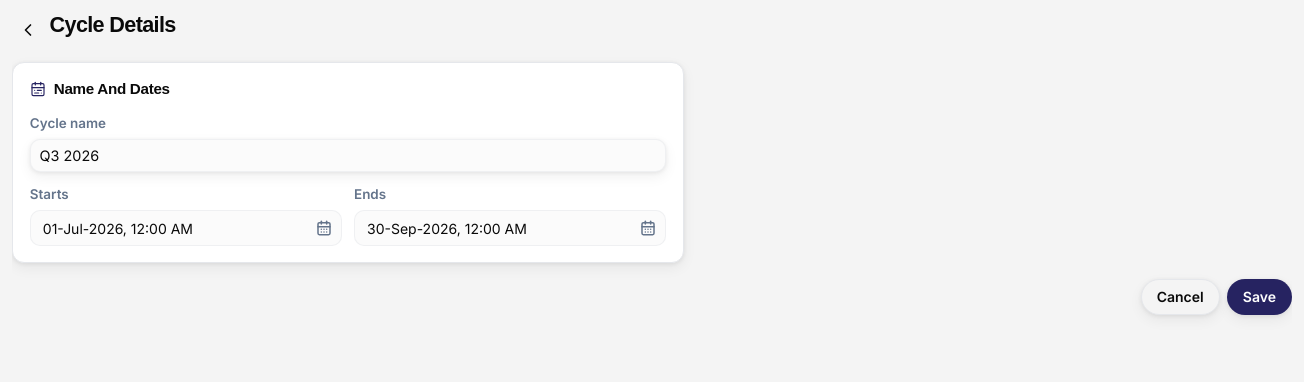
CycleDetailsEditPage › keeps the panel open and shows an error when save fails
Click the button "Save".
click(1259, 298)  # box [1227, 280, 1292, 316]
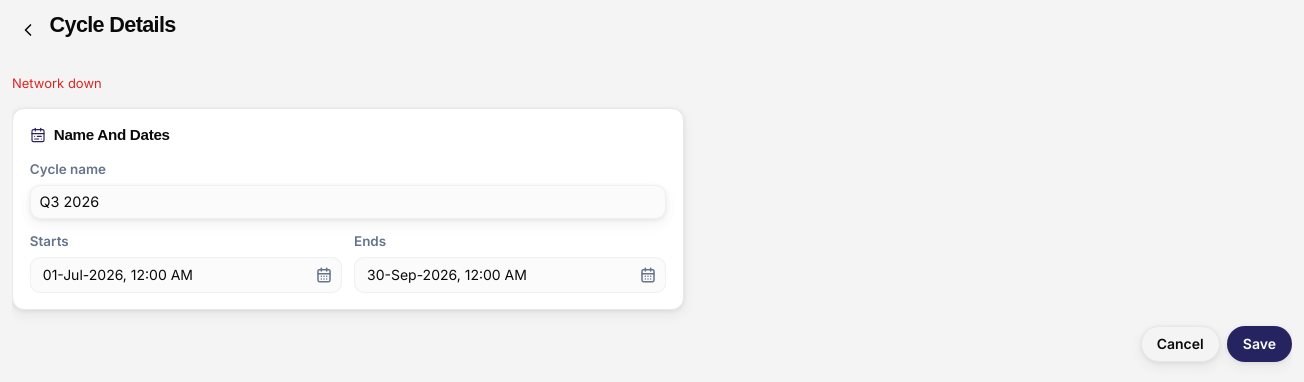
Expected: the message reads "Network down", [12, 75, 102, 91]
